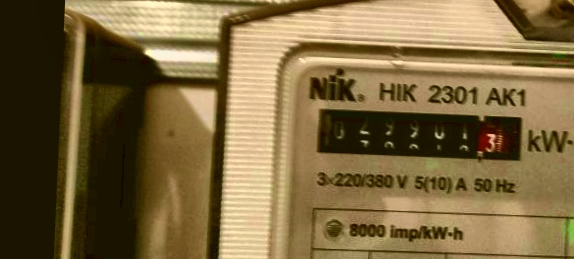0: (431, 115, 446, 141), (330, 118, 347, 139)
1: (456, 117, 470, 141)
2: (355, 116, 372, 135)
3: (483, 129, 497, 152)
9: (406, 116, 421, 138), (381, 115, 394, 137)
screen: (303, 96, 533, 170)
